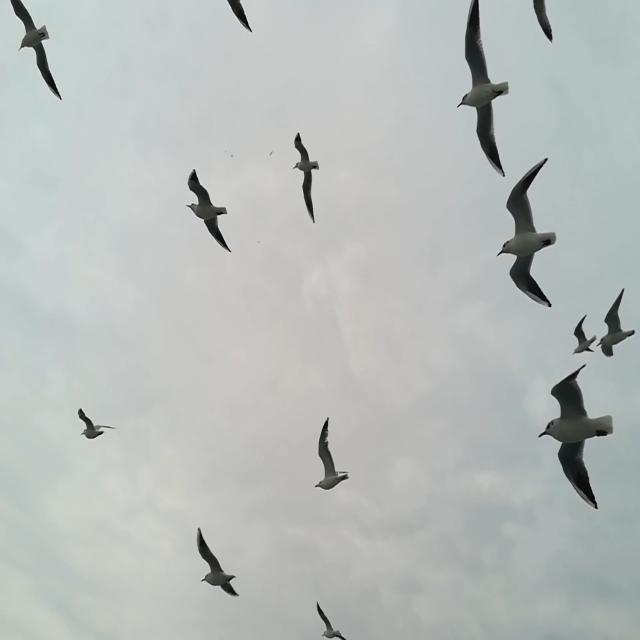bird: (538, 363, 614, 512), (495, 155, 557, 312), (456, 0, 510, 179), (10, 0, 63, 102), (186, 170, 233, 254), (196, 528, 242, 598), (595, 287, 635, 359), (314, 418, 350, 492), (292, 132, 319, 225), (77, 408, 118, 442), (315, 602, 347, 640), (572, 314, 596, 356), (532, 0, 554, 45), (226, 0, 252, 34), (269, 150, 274, 158)
